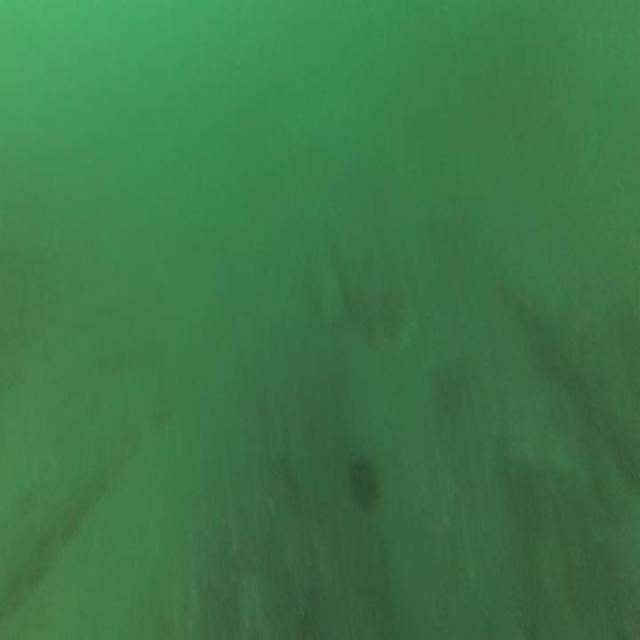echinus: (349, 458, 377, 509)
